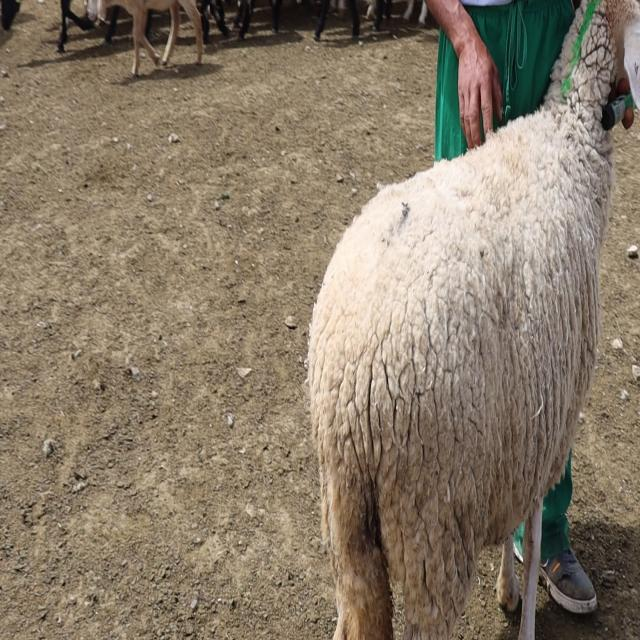Score_4: (307, 0, 640, 639)
